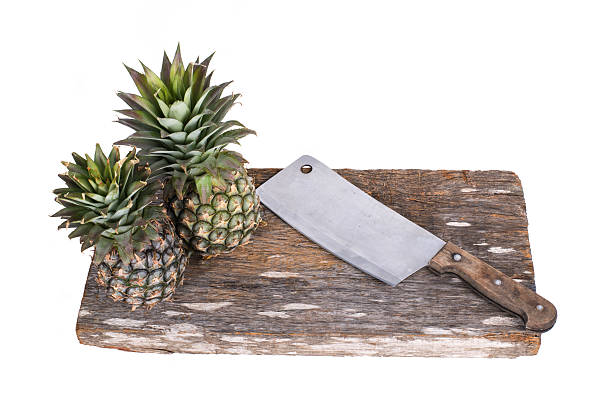knife: (252, 151, 559, 335)
